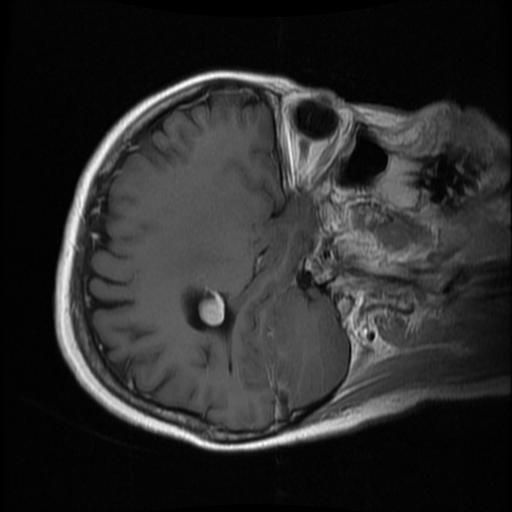meningioma: (198, 286, 225, 327)
